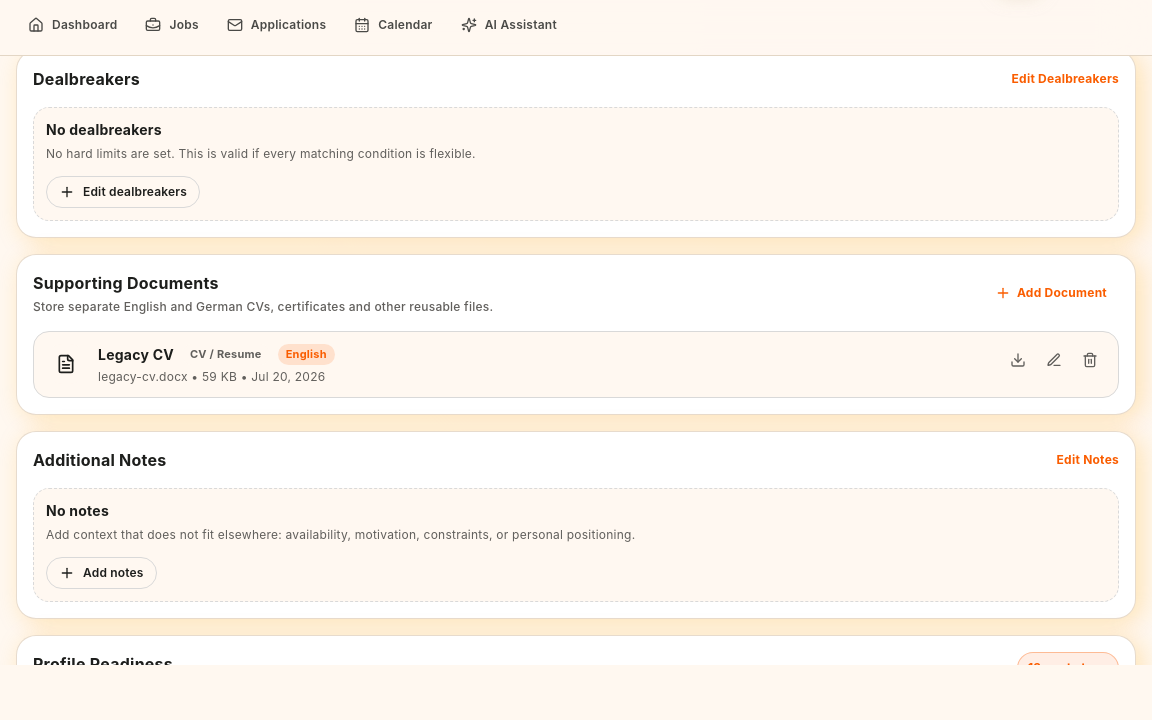
Test: deletes a stored supporting document and hides cover letters
(page scrolled)
Check: the text "Legacy CV" is shown, box [98,346,174,362]
Click the button named "Delete document" at x=1090, y=360, box [1074,344,1106,376]
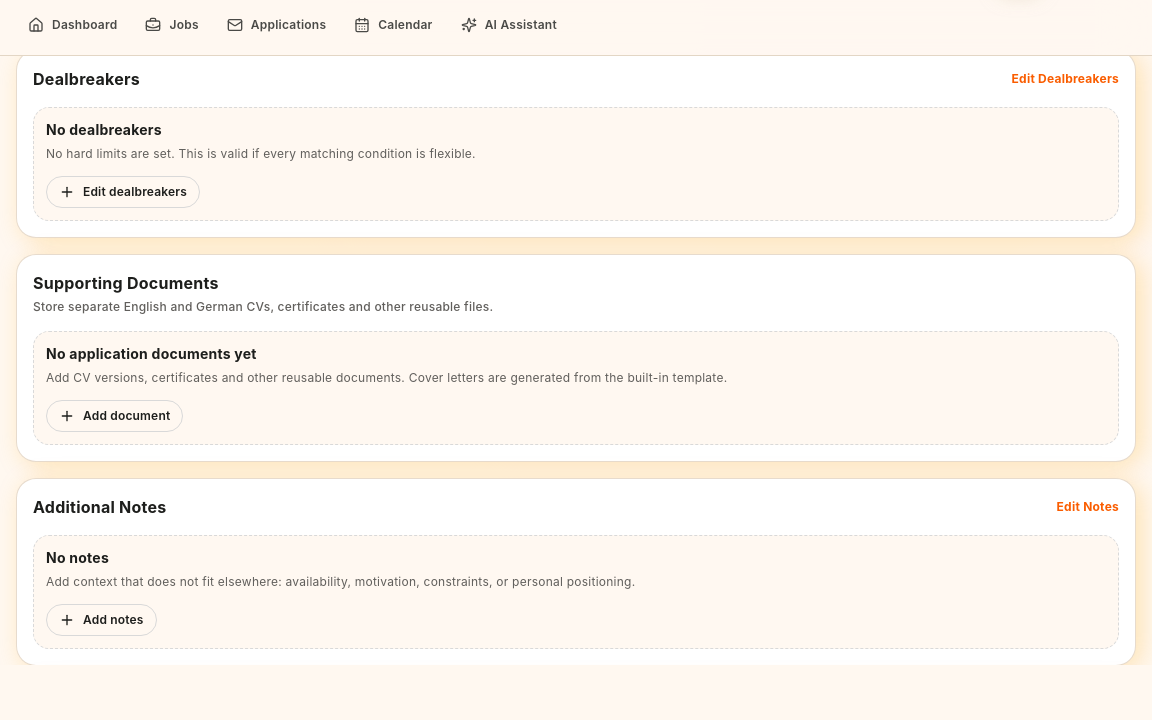
Check: the heading "Legacy CV" is gone
